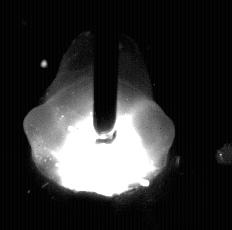arame: (95, 0, 119, 134)
poca: (23, 0, 176, 230)
